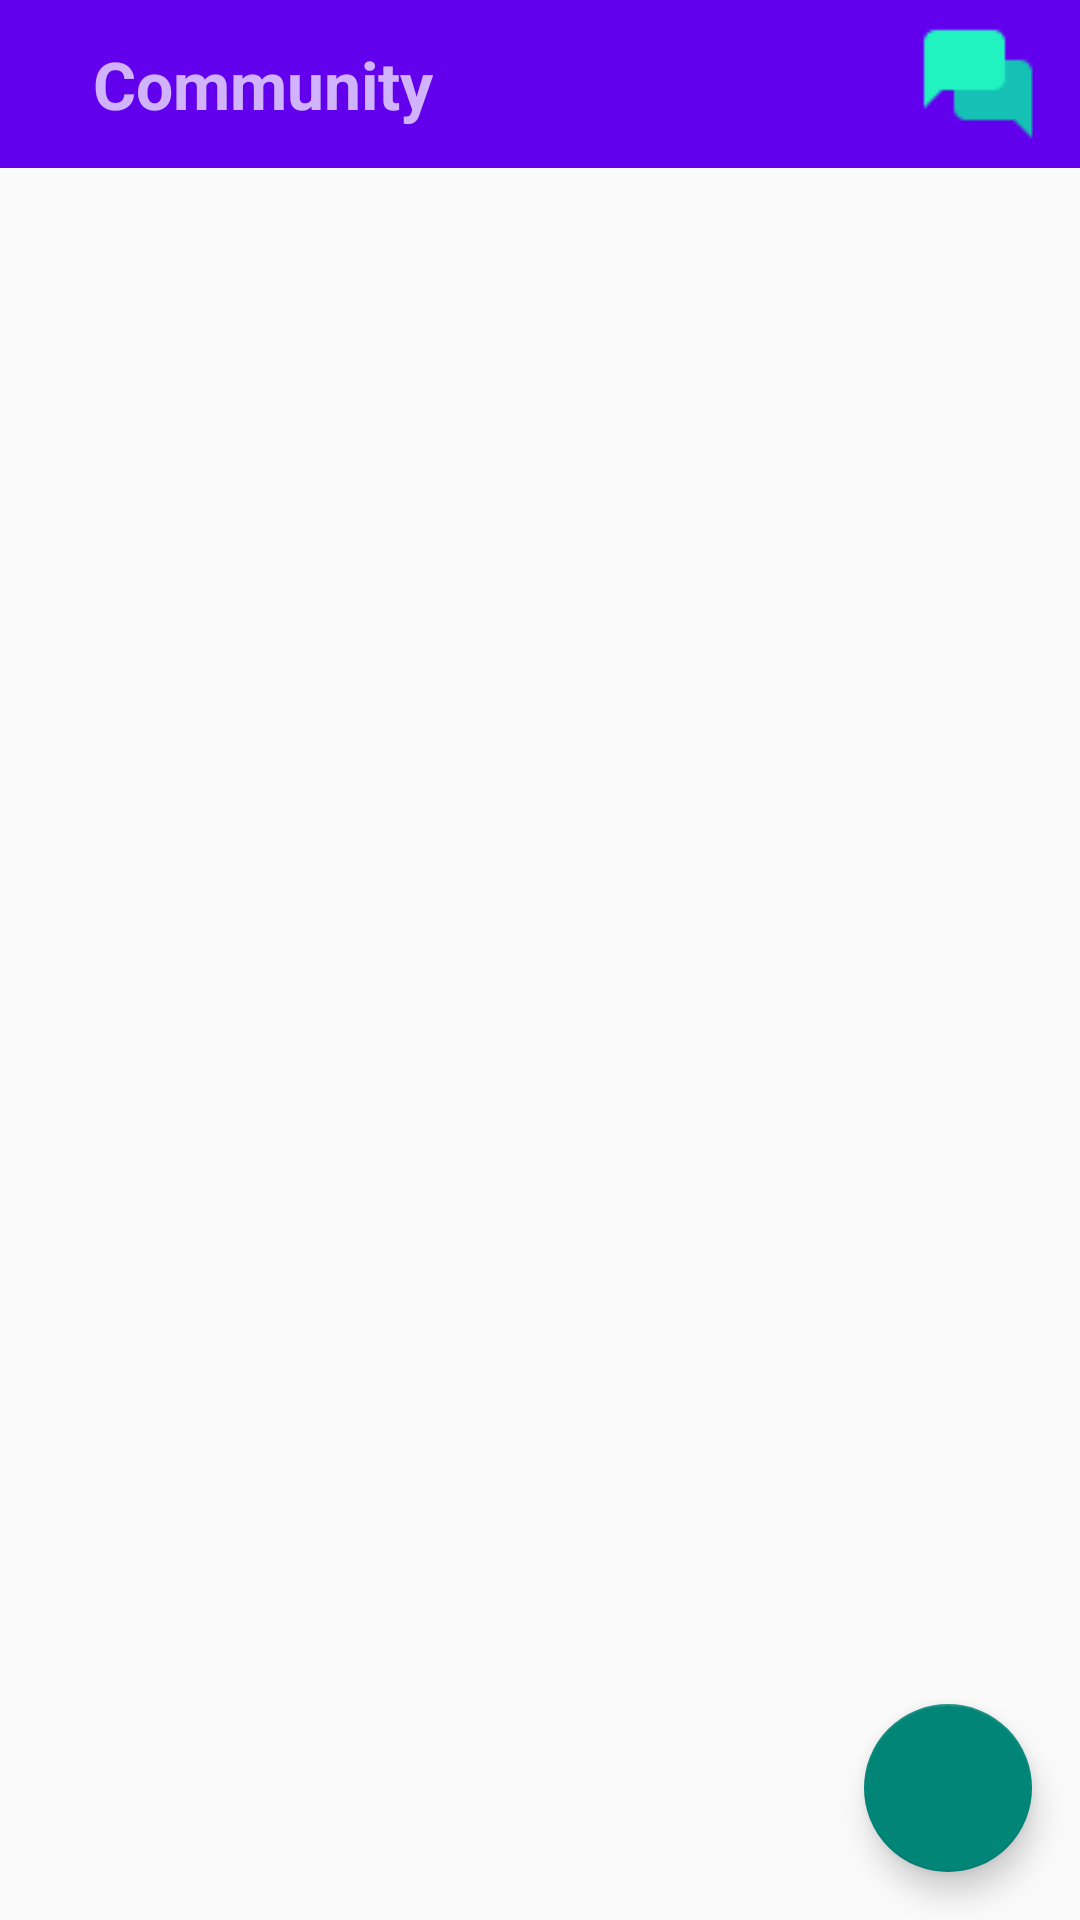

Where to tap for icons on this 1080w x 1920h app screen, as point (x, y):
chatbutton: point (978, 84)
